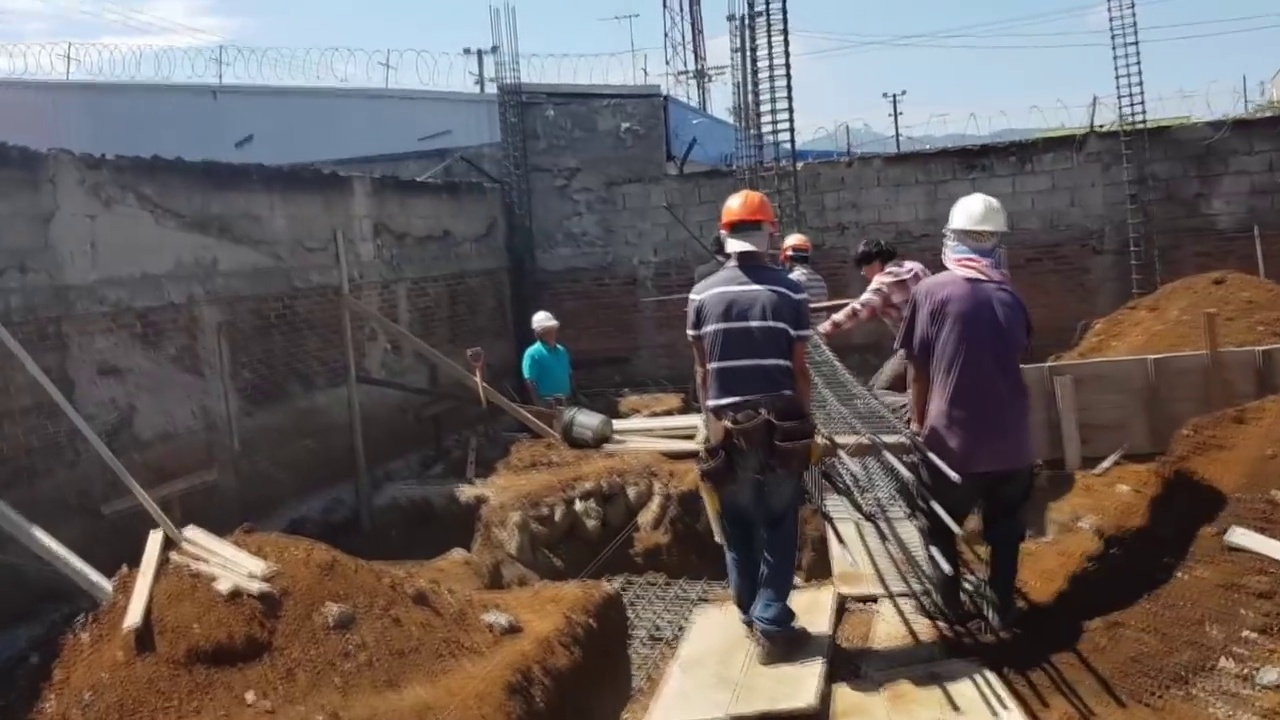helmet: (942, 193, 1016, 238), (718, 190, 776, 237), (780, 232, 814, 257), (530, 310, 559, 332)
helmet-off: (856, 238, 897, 283)
helmet-on: (936, 192, 1019, 277), (720, 189, 775, 269), (781, 232, 814, 271), (529, 310, 559, 346)
person: (681, 187, 836, 662), (883, 191, 1047, 632), (823, 232, 932, 392), (517, 306, 581, 405), (779, 231, 829, 329)
